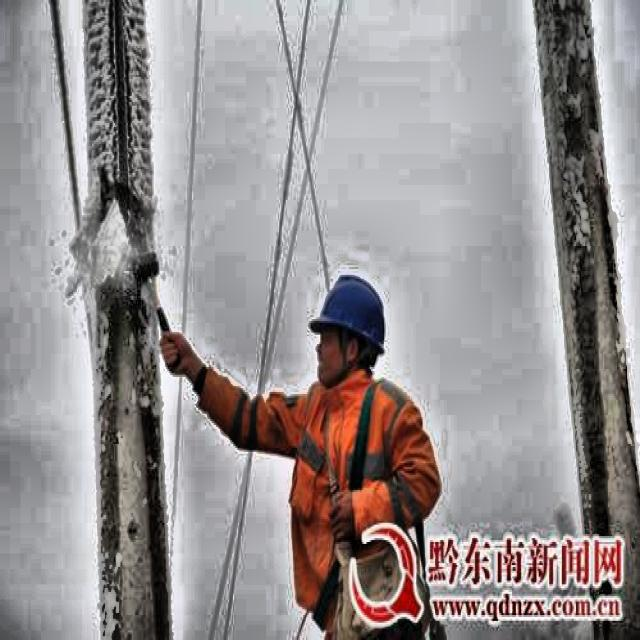helmet: (304, 263, 390, 402)
